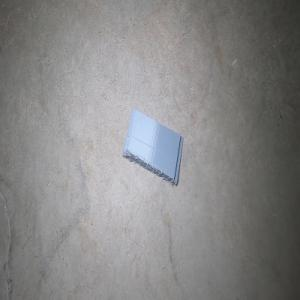PlasticPart: (121, 107, 183, 186)
